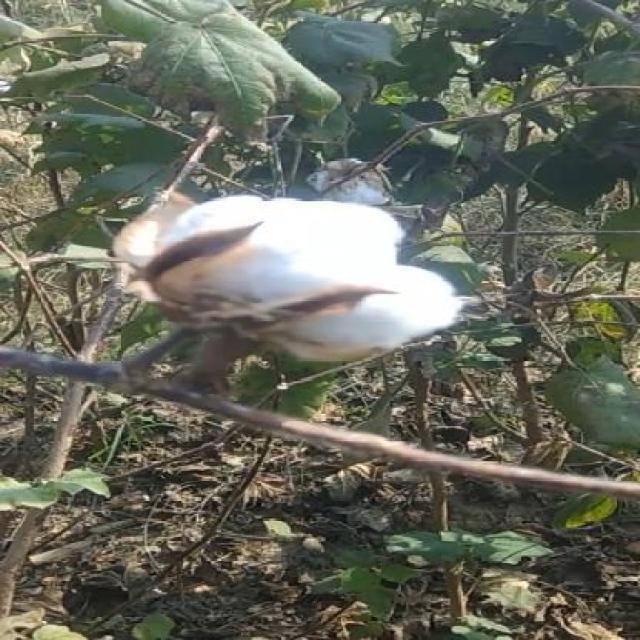cotton_ready: (68, 168, 484, 392)
